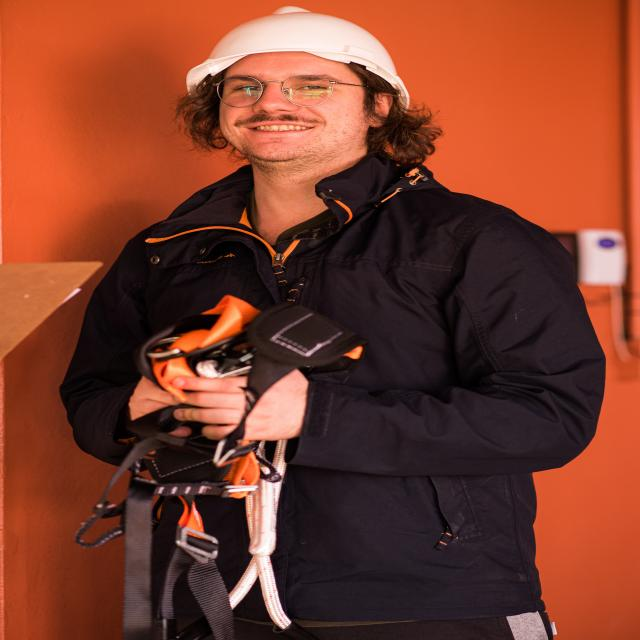capacete: (172, 4, 416, 111)
